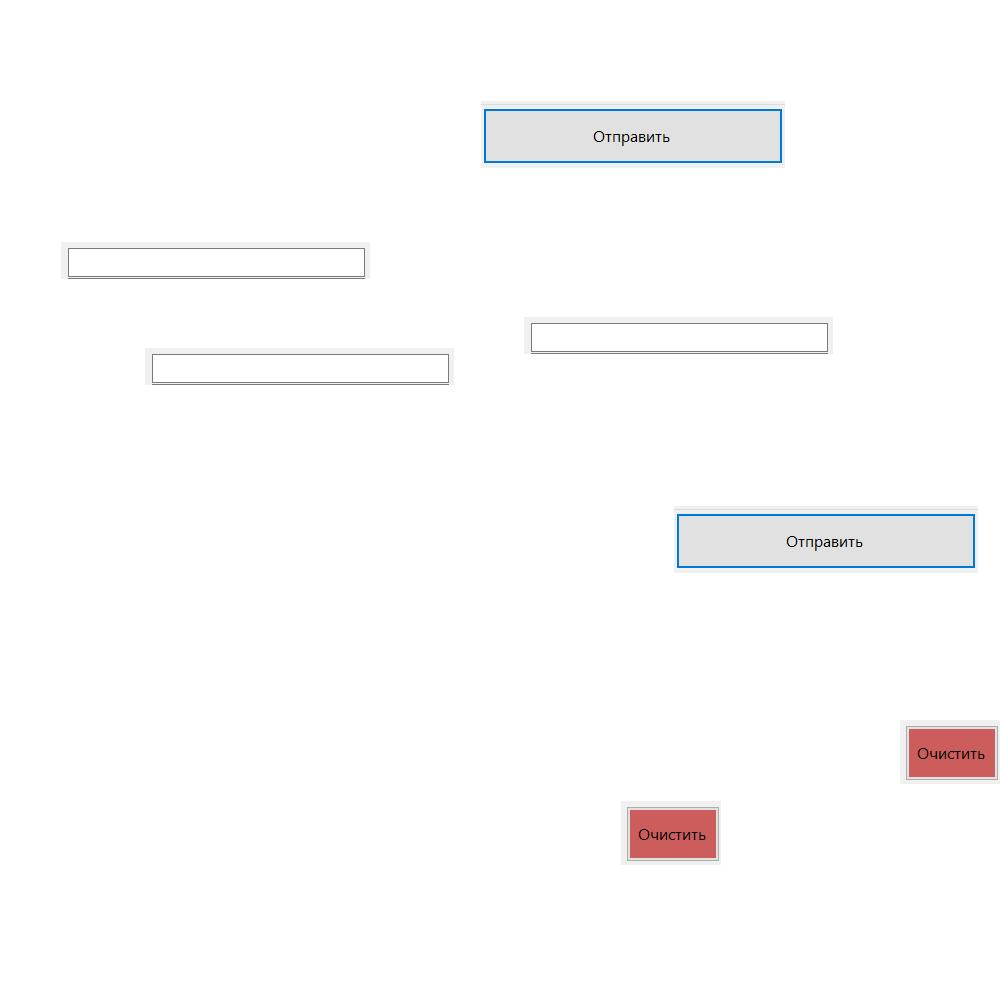Button: (674, 506, 978, 573), (481, 101, 785, 168), (621, 801, 721, 865), (900, 720, 1000, 784)
EditText-: (524, 317, 833, 354), (145, 348, 454, 385), (61, 242, 370, 279)
